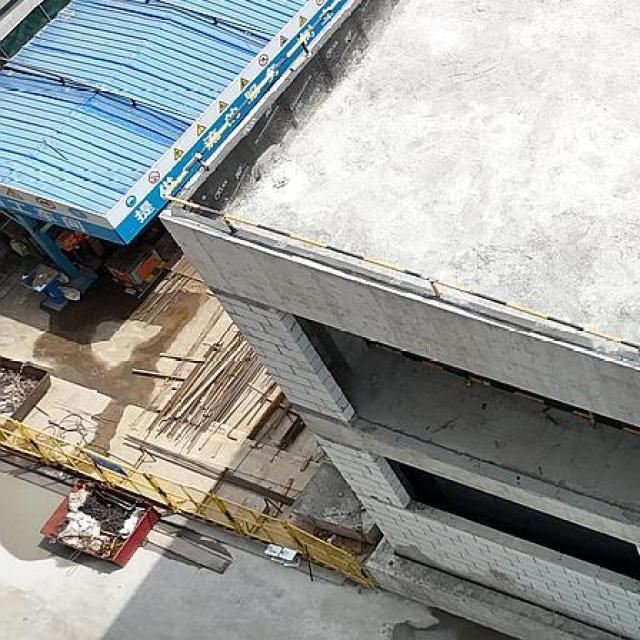edge_guardrail: (160, 0, 640, 350), (373, 342, 640, 435)
